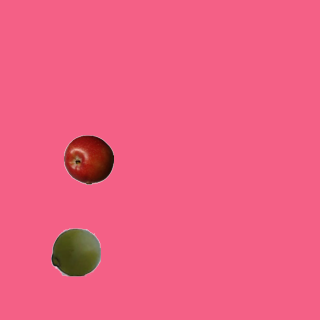Apple Braeburn: (63, 134, 113, 184)
Grape White 4: (50, 226, 100, 276)
